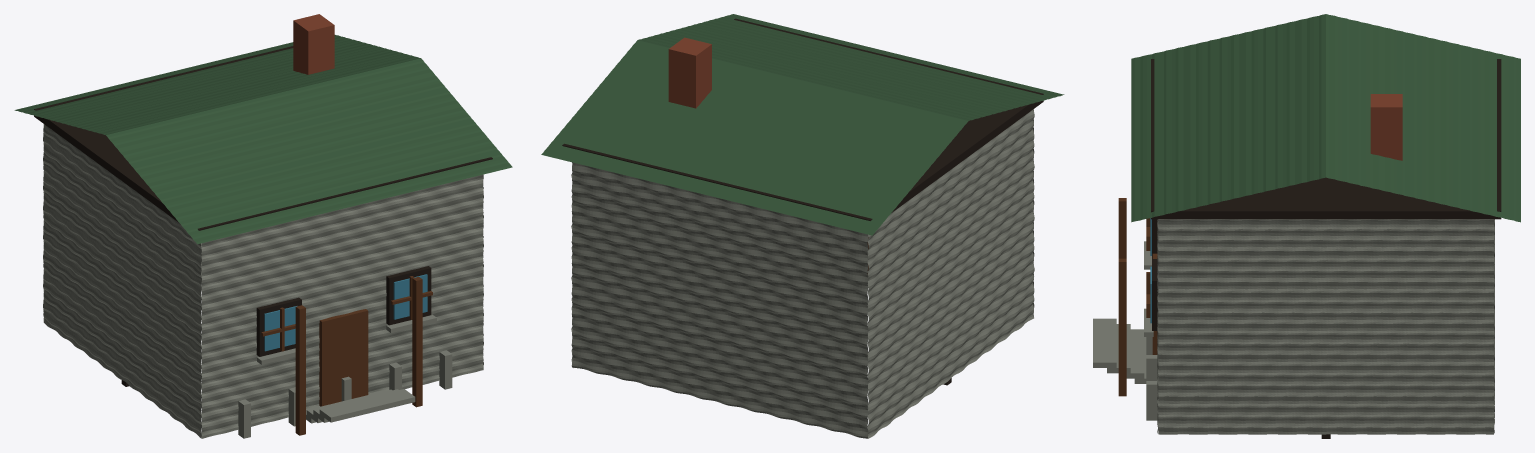
Rendered from harbor_customs_house.obj.
The picture shows the model from 3 angles, left to right: view 1: azimuth 30°, elevation 25°; view 2: azimuth 150°, elevation 25°; view 3: azimuth 270°, elevation 25°; orthographic projection. The views are drawn at different scales.
Visible parts, largest first — view 1: harbor_customs_house; view 2: harbor_customs_house; view 3: harbor_customs_house.
Boxes of the visible parts, x1,y1,x2,y2 form: harbor_customs_house: (14, 14, 512, 438); harbor_customs_house: (541, 14, 1064, 438); harbor_customs_house: (1093, 14, 1520, 438).
Size of the model in its own units: 7.84 by 6.86 by 8.66.
